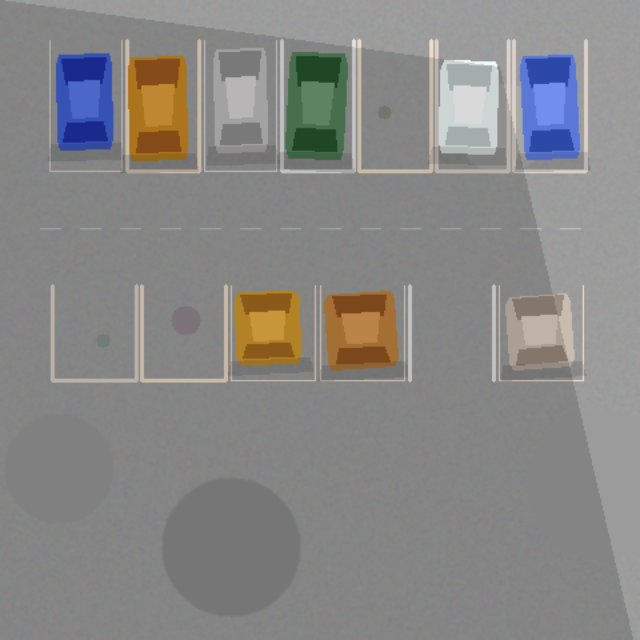space-empty: (359, 40, 431, 171), (52, 285, 136, 380), (141, 285, 225, 380), (409, 285, 493, 380)
space-occupied: (49, 40, 121, 171), (127, 40, 199, 171), (204, 40, 276, 171), (281, 40, 353, 171), (436, 40, 508, 171), (513, 40, 585, 171), (231, 285, 315, 380), (320, 285, 404, 380), (499, 285, 583, 380)
